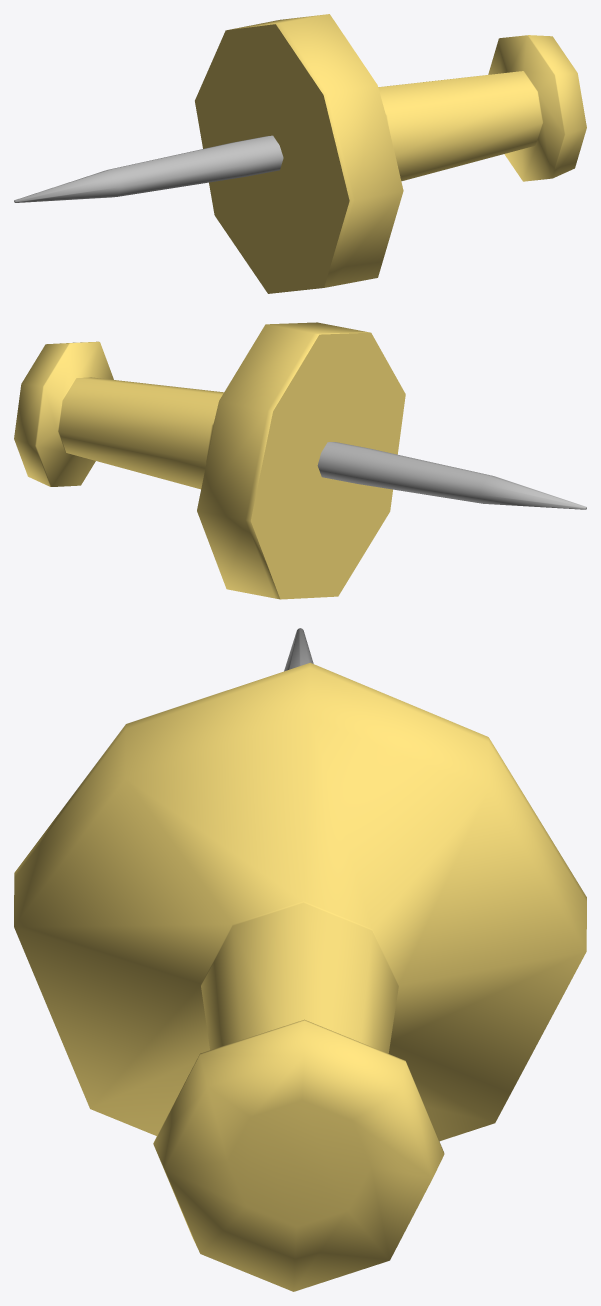
The model's file is Pin.fbx.
3 renders of one model, top to bottom at view 1: azimuth 30°, elevation 25°; view 2: azimuth 150°, elevation 25°; view 3: azimuth 270°, elevation 25°, orthographic. The views are drawn at different scales.
Parts seen in each view (by area): view 1: pin; view 2: pin; view 3: pin.
Boxes of the visible parts, x1=… form: pin: x1=14, y1=14, x2=586, y2=293; pin: x1=14, y1=322, x2=586, y2=599; pin: x1=14, y1=628, x2=586, y2=1291.
Size of the model in its own units: 2.41 by 1.13 by 1.2.
